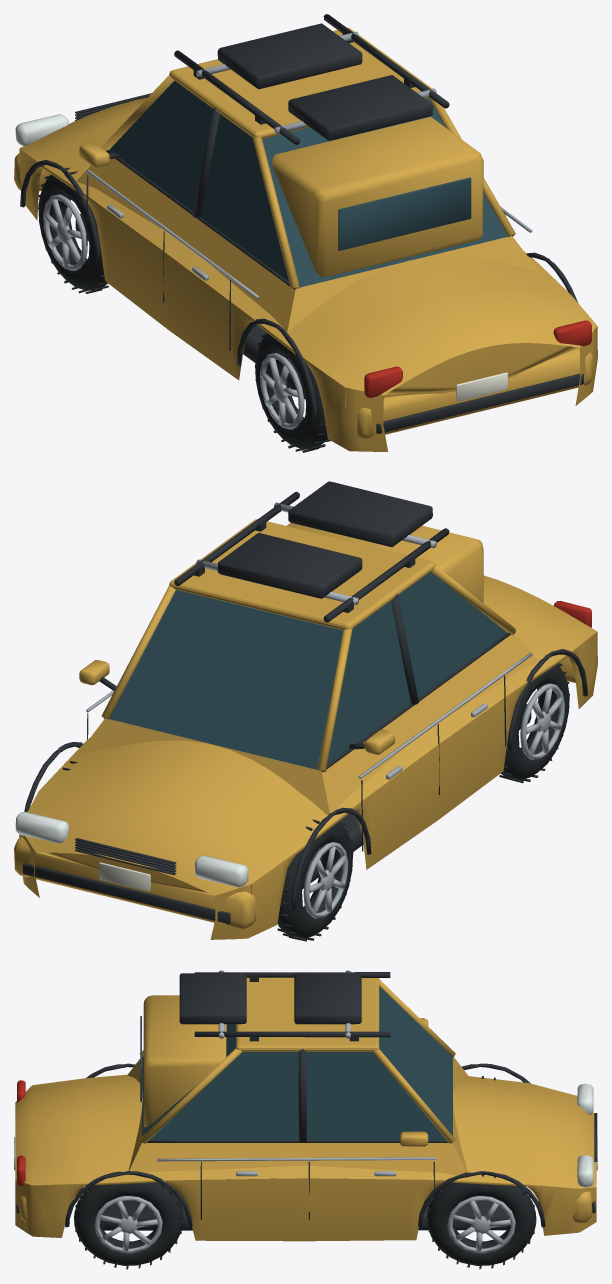
The picture shows the model from 3 angles, top to bottom: view 1: azimuth 30°, elevation 25°; view 2: azimuth 150°, elevation 25°; view 3: azimuth 270°, elevation 25°; orthographic projection. The views are drawn at different scales.
Visible parts, largest first — view 1: utility_car_body, utility_car_front_left_door, utility_car_rear_left_door, utility_car_rear_left_wheel, utility_car_front_left_wheel; view 2: utility_car_body, utility_car_front_left_door, utility_car_rear_left_door, utility_car_front_left_wheel, utility_car_rear_left_wheel, utility_car_front_right_door; view 3: utility_car_body, utility_car_front_right_door, utility_car_rear_right_door, utility_car_rear_right_wheel, utility_car_front_right_wheel.
Part boxes in pixels (box(x1,y1,x2,y2)): utility_car_body: box(14, 14, 597, 451); utility_car_front_left_door: box(79, 80, 212, 329); utility_car_rear_left_door: box(162, 114, 270, 377); utility_car_rear_left_wheel: box(255, 333, 330, 452); utility_car_front_left_wheel: box(38, 167, 108, 293); utility_car_body: box(14, 481, 597, 939); utility_car_front_left_door: box(330, 602, 439, 869); utility_car_rear_left_door: box(389, 571, 506, 822); utility_car_front_left_wheel: box(277, 819, 353, 941); utility_car_rear_left_wheel: box(499, 663, 569, 783); utility_car_front_right_door: box(79, 660, 116, 739); utility_car_body: box(14, 970, 597, 1240); utility_car_front_right_door: box(309, 1052, 434, 1241); utility_car_rear_right_door: box(200, 1052, 309, 1241); utility_car_rear_right_wheel: box(74, 1182, 183, 1269); utility_car_front_right_wheel: box(427, 1175, 536, 1269).
Size of the model in its own units: 1.7 by 1.5 by 3.5.
